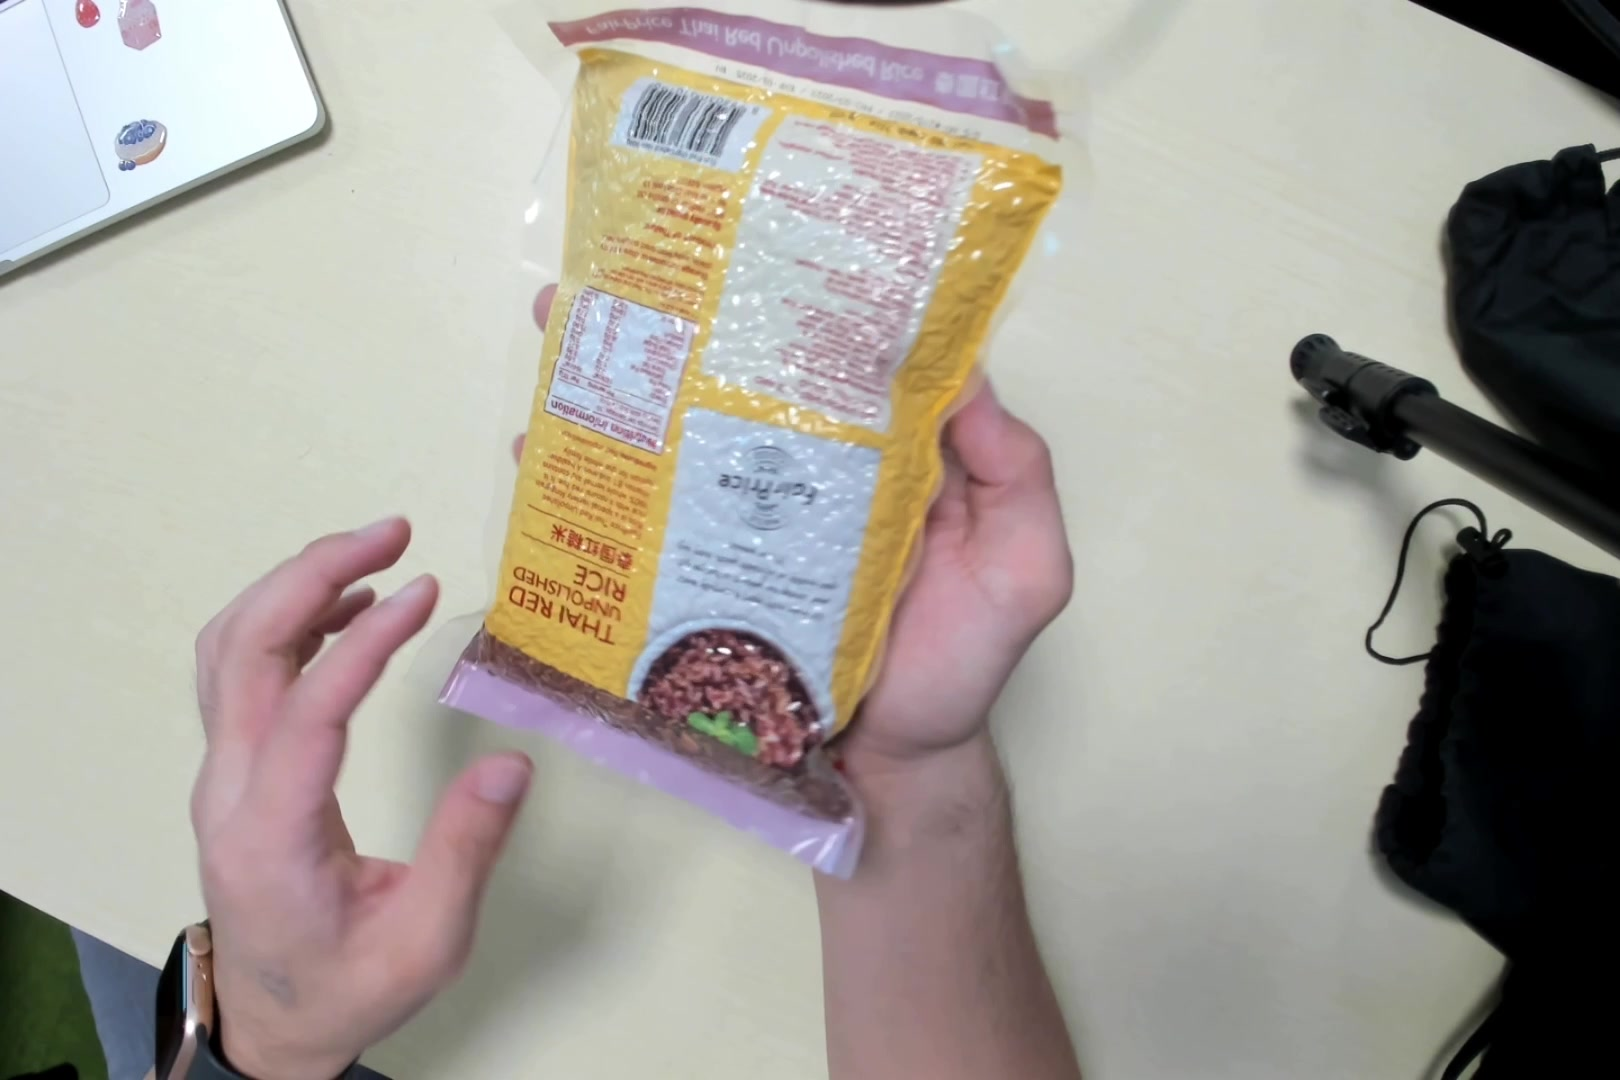Rice(BrownOthers)_500-599g_NonHalal_Healthy: (448, 4, 1078, 843)
